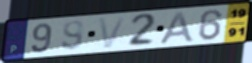2: (128, 12, 158, 49)
6: (196, 9, 224, 42)
9: (61, 20, 86, 52), (30, 22, 53, 54)
A: (158, 11, 196, 46)
V: (96, 15, 128, 50)
